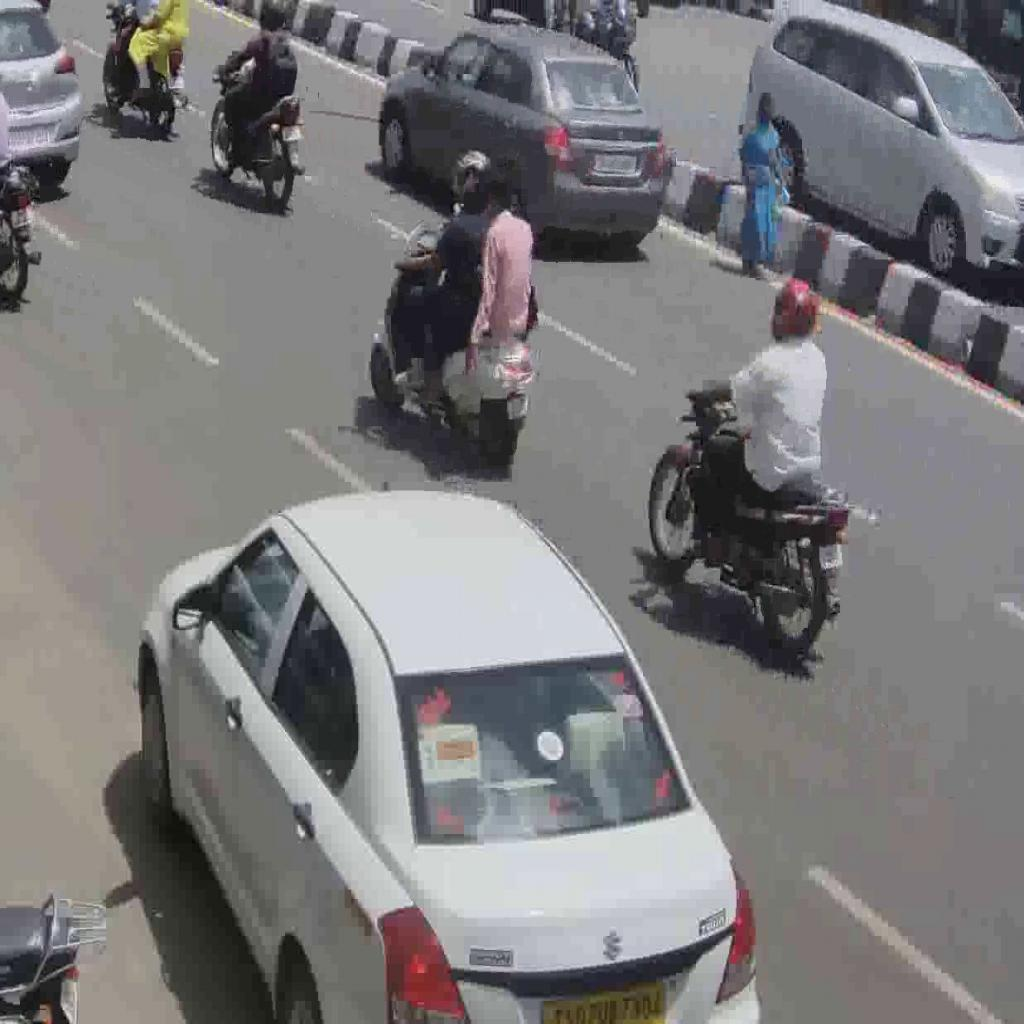helmet: (646, 373, 854, 657), (368, 220, 536, 462), (210, 47, 306, 208), (102, 0, 187, 132)
